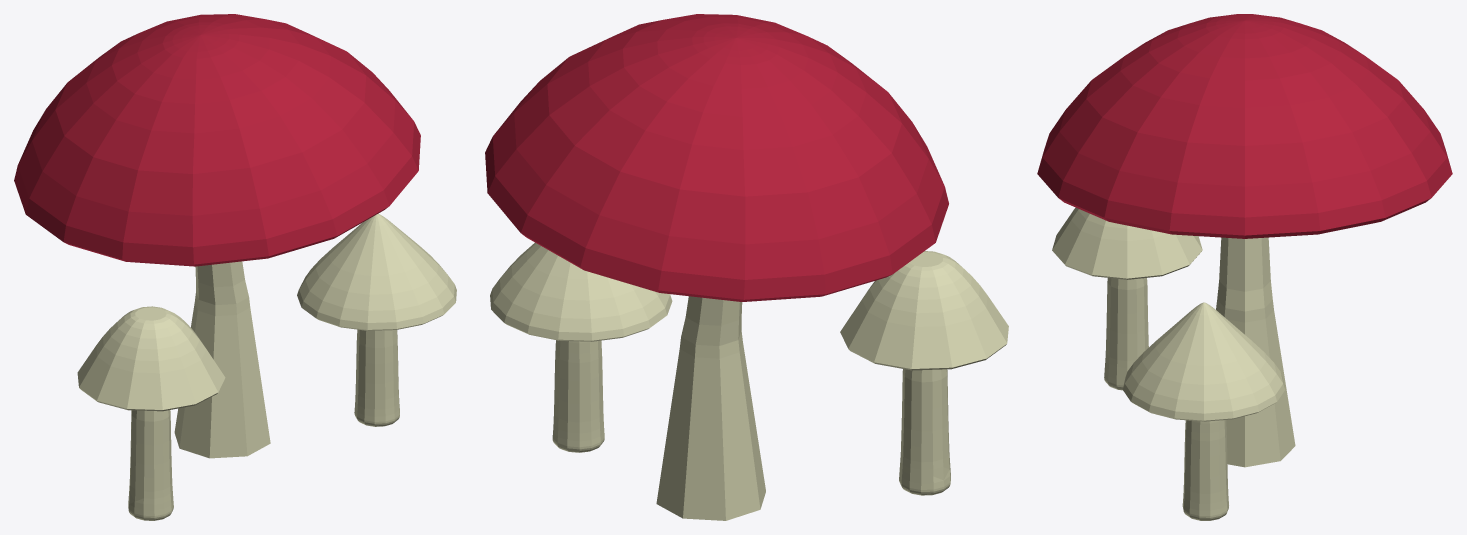
Rendered from Pilzgruppe 1.fbx.
3 renders of one model, left to right at view 1: azimuth 30°, elevation 25°; view 2: azimuth 150°, elevation 25°; view 3: azimuth 270°, elevation 25°, orthographic. The views are drawn at different scales.
Visible parts, largest first — view 1: Kegel_3, Kegel, Zylinder, Kegel_2, Kegel_1_2, Kegel_1; view 2: Kegel_3, Zylinder, Kegel_2, Kegel, Kegel_1_2, Kegel_1; view 3: Kegel_3, Kegel, Zylinder, Kegel_2, Kegel_1, Kegel_1_2.
Boxes of the visible parts, x1,y1,x2,y2 form: Kegel_3: (14, 14, 420, 266); Kegel: (297, 213, 456, 330); Zylinder: (174, 261, 270, 458); Kegel_2: (77, 306, 225, 411); Kegel_1_2: (128, 410, 173, 520); Kegel_1: (354, 329, 399, 426); Kegel_3: (485, 14, 948, 301); Zylinder: (656, 296, 765, 520); Kegel_2: (840, 251, 1008, 370); Kegel: (490, 242, 672, 341); Kegel_1_2: (899, 369, 950, 495); Kegel_1: (552, 340, 604, 452); Kegel_3: (1037, 14, 1452, 238); Kegel: (1122, 302, 1285, 421); Zylinder: (1216, 237, 1295, 467); Kegel_2: (1052, 207, 1202, 279); Kegel_1: (1182, 420, 1228, 520); Kegel_1_2: (1104, 278, 1148, 390).
Size of the model in its own units: 57.6 by 56.85 by 51.45.
